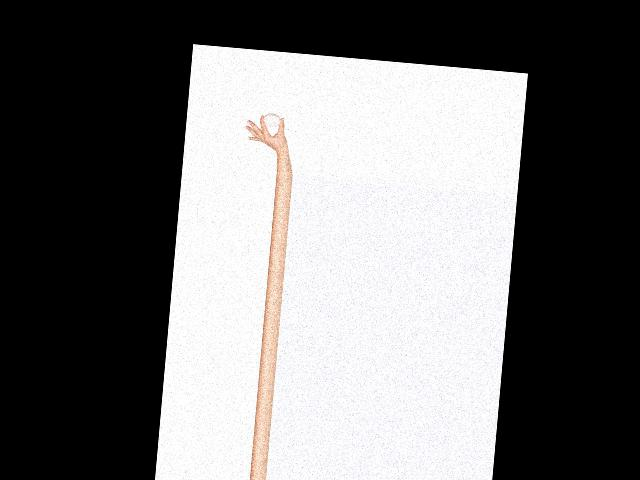egg: (263, 112, 281, 127)
